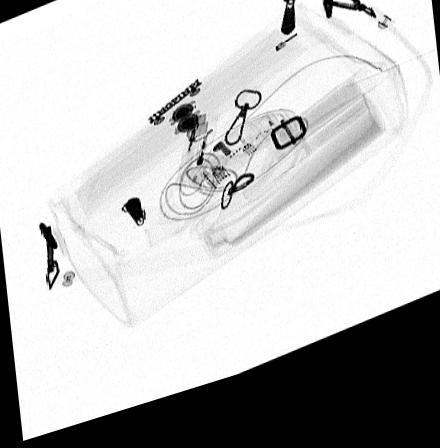Lighter: (174, 125, 217, 193)
